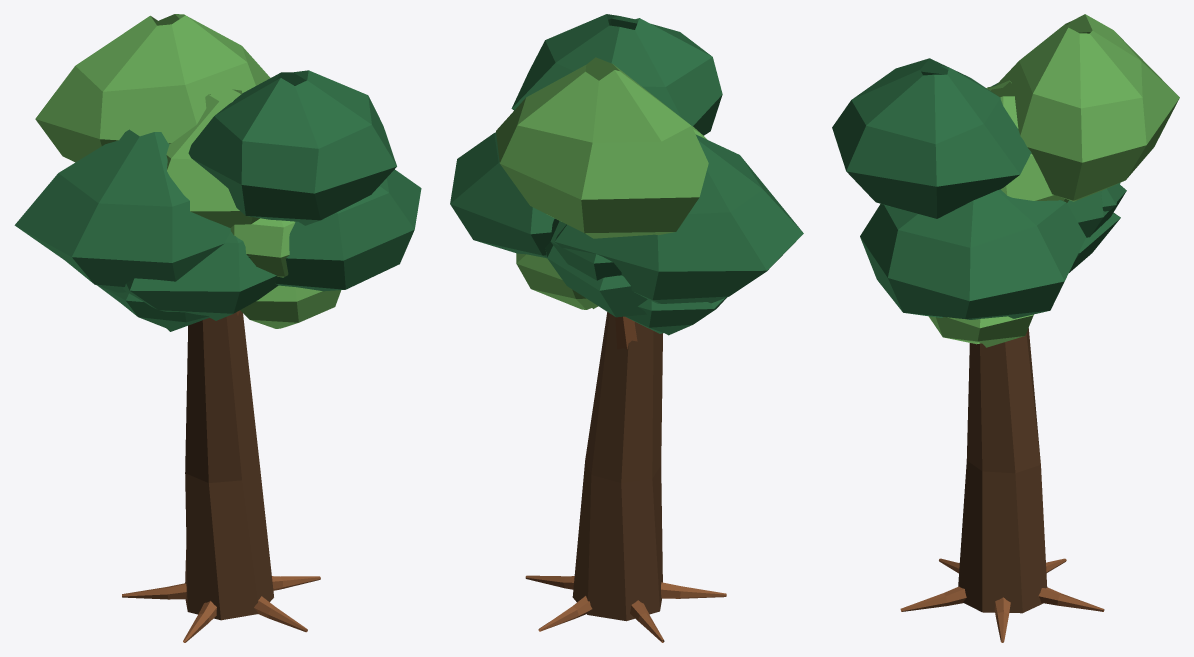
Rendered from tree_a.glb.
3 renders of one model, left to right at view 1: azimuth 30°, elevation 25°; view 2: azimuth 150°, elevation 25°; view 3: azimuth 270°, elevation 25°, orthographic.
Parts seen in each view (by area): view 1: TREE_A; view 2: TREE_A; view 3: TREE_A.
Boxes of the visible parts, x1,y1,x2,y2 form: TREE_A: (14,14,421,642); TREE_A: (450,14,803,642); TREE_A: (832,14,1179,642).
Size of the model in its own units: 4.26 by 6.45 by 3.59.
